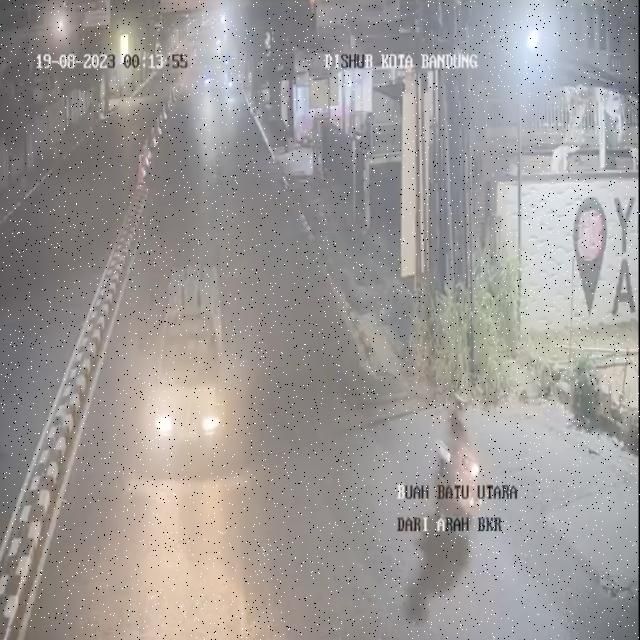cars: (147, 264, 241, 486)
motorcycle: (434, 390, 488, 544)
